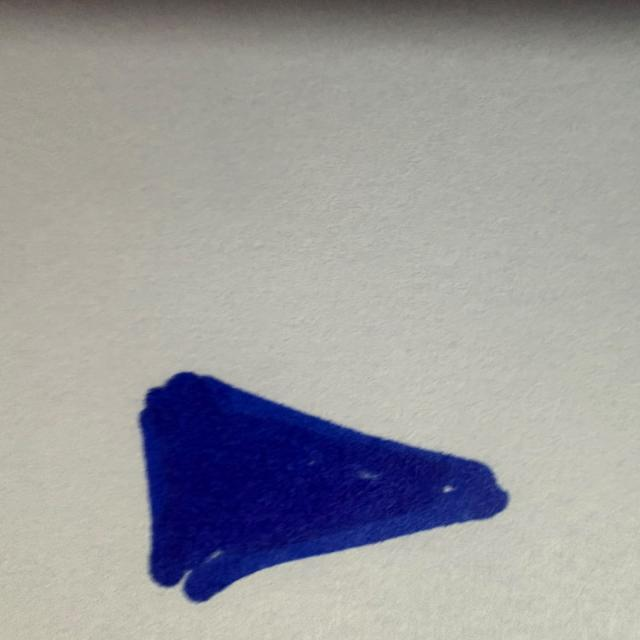Triangle: (139, 373, 508, 601)
